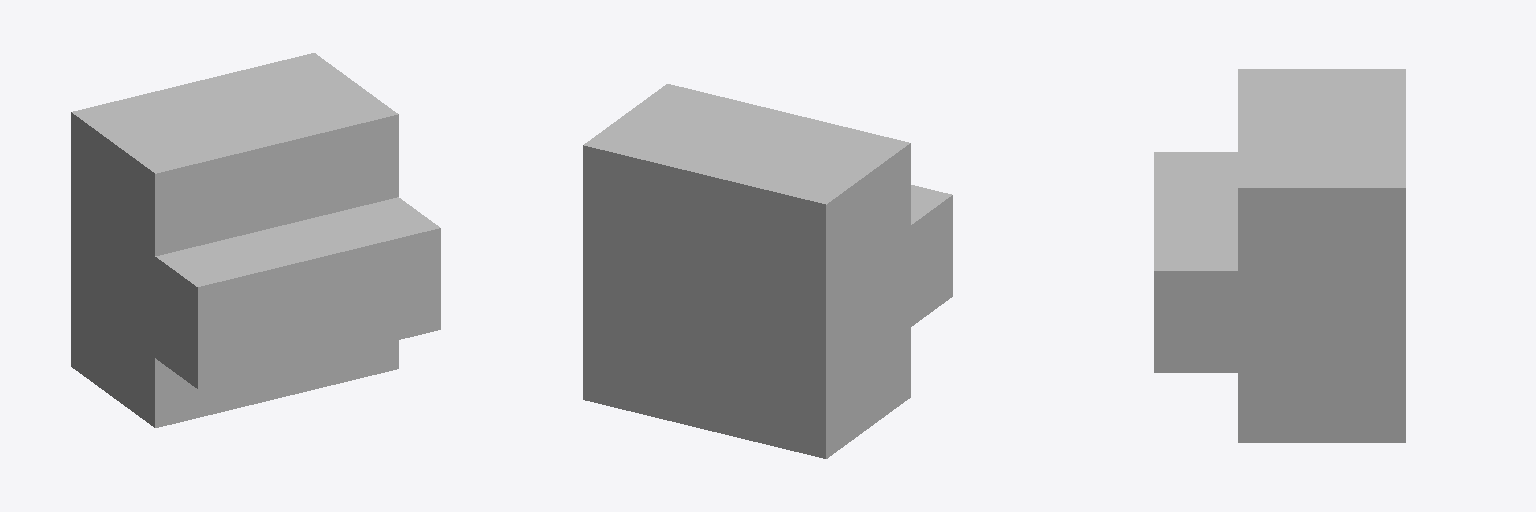
3 views of the same model, side by side, from view 1: azimuth 30°, elevation 25°; view 2: azimuth 150°, elevation 25°; view 3: azimuth 270°, elevation 25° (orthographic).
Parts seen in each view (by area): view 1: Boss_Extrude2; view 2: Boss_Extrude2; view 3: Boss_Extrude2.
Boxes of the visible parts, x1=… form: Boss_Extrude2: x1=71, y1=53, x2=440, y2=427; Boss_Extrude2: x1=583, y1=84, x2=952, y2=458; Boss_Extrude2: x1=1154, y1=69, x2=1405, y2=442.
Size of the model in its own units: 5 by 5 by 4.5.